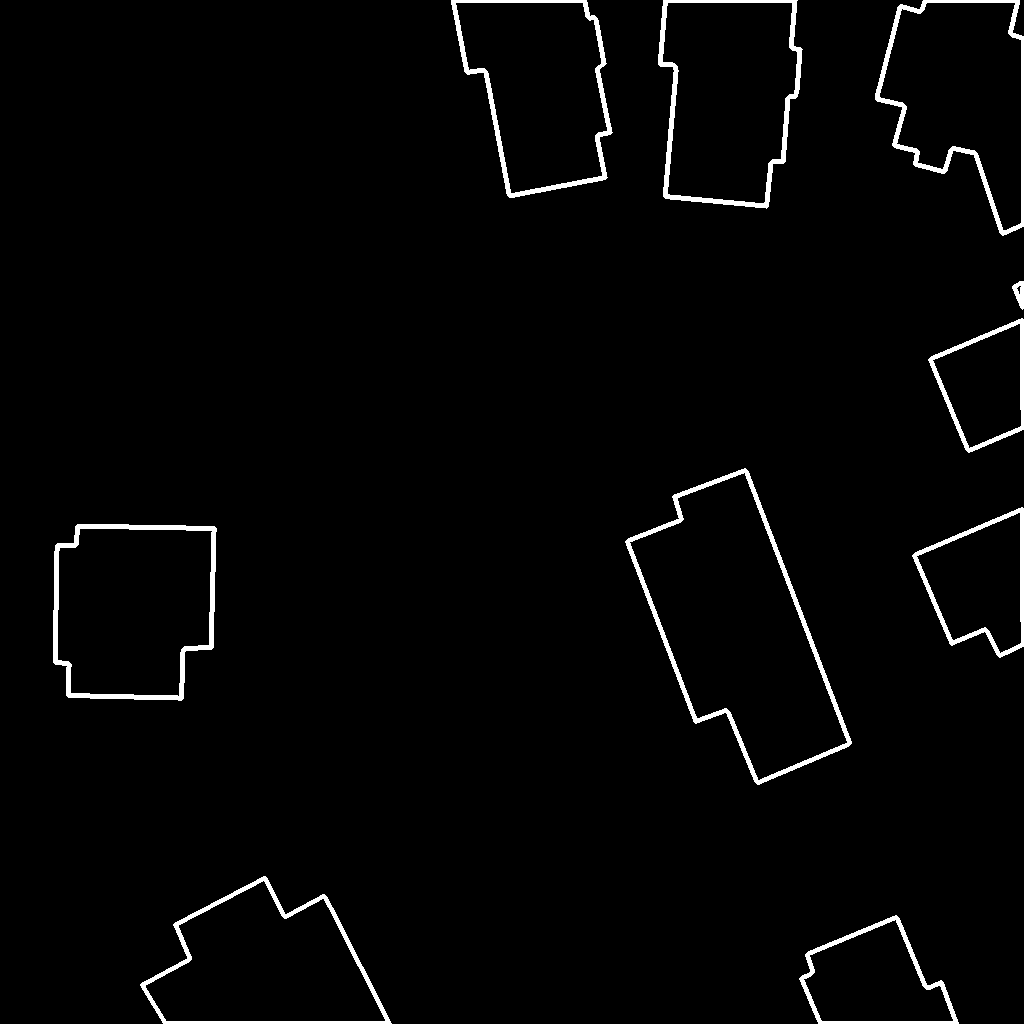building: (627, 470, 851, 784), (142, 878, 391, 1024), (877, 0, 1024, 235), (453, 0, 611, 197), (660, 0, 801, 207), (55, 526, 215, 699), (801, 917, 958, 1024), (914, 509, 1024, 657), (930, 283, 1024, 452)
